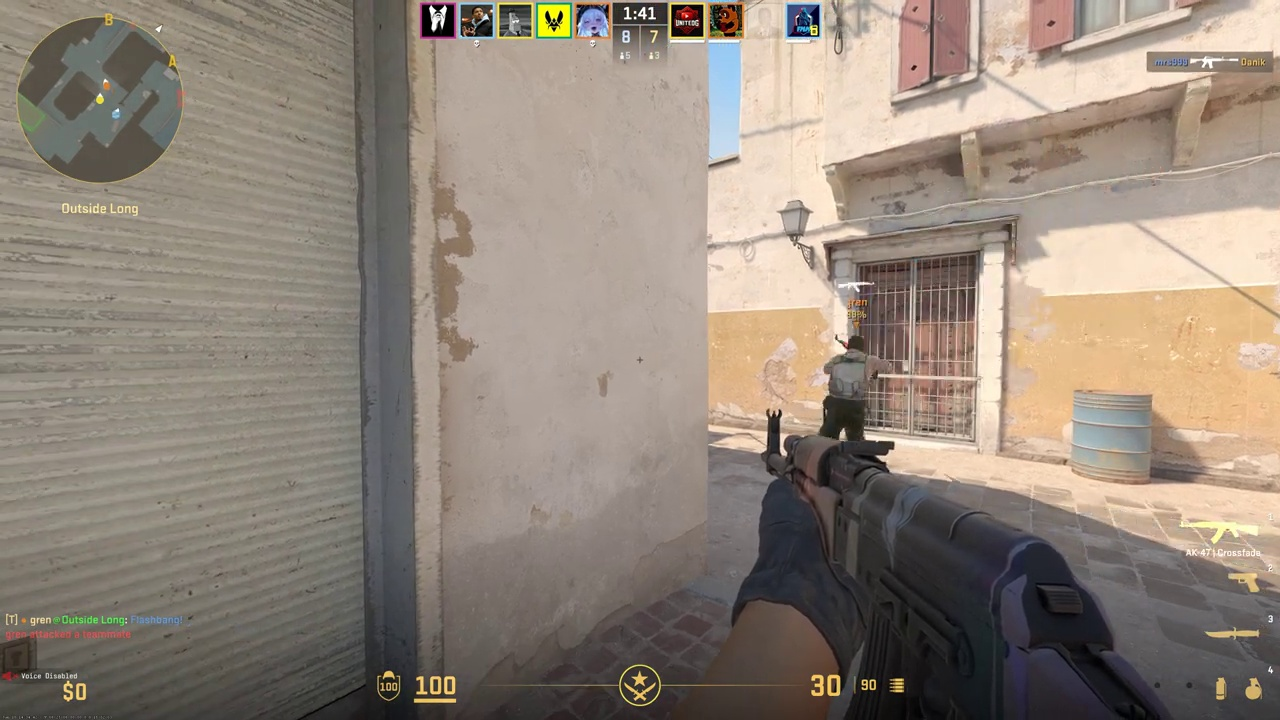Terrorist: (820, 335, 877, 442)
